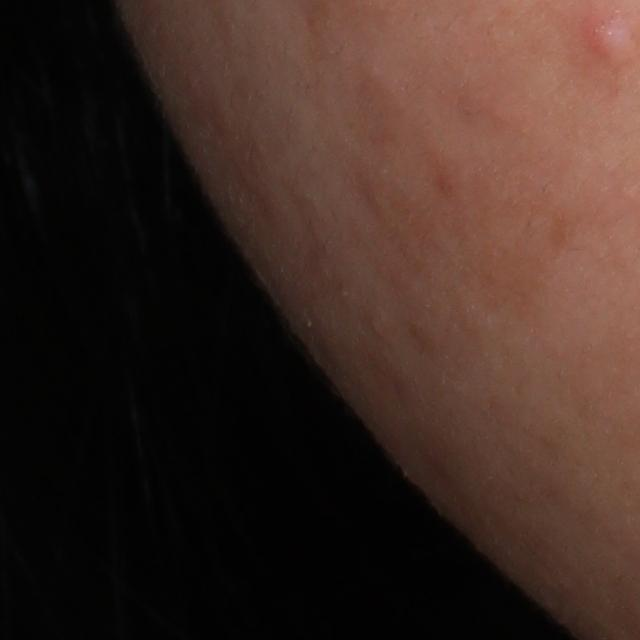papule: (585, 12, 631, 70)
